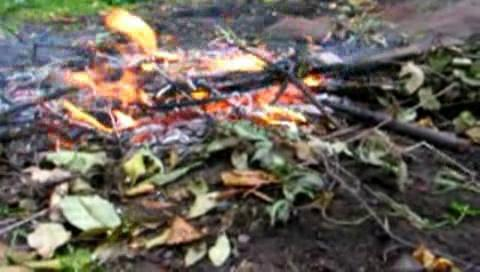fire: (83, 12, 314, 128)
